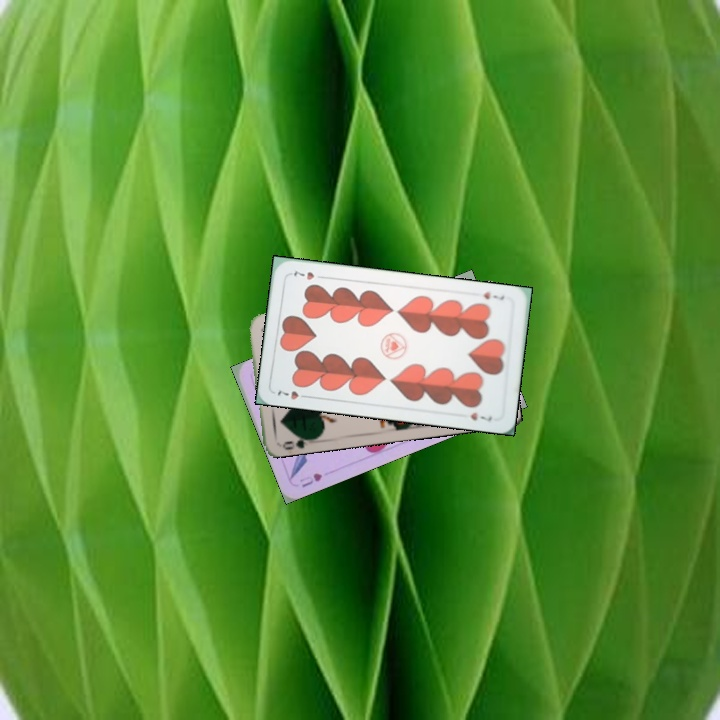GO: (279, 430, 317, 451)
H7: (273, 386, 312, 402), (480, 287, 507, 303)
HU: (296, 469, 325, 490)
